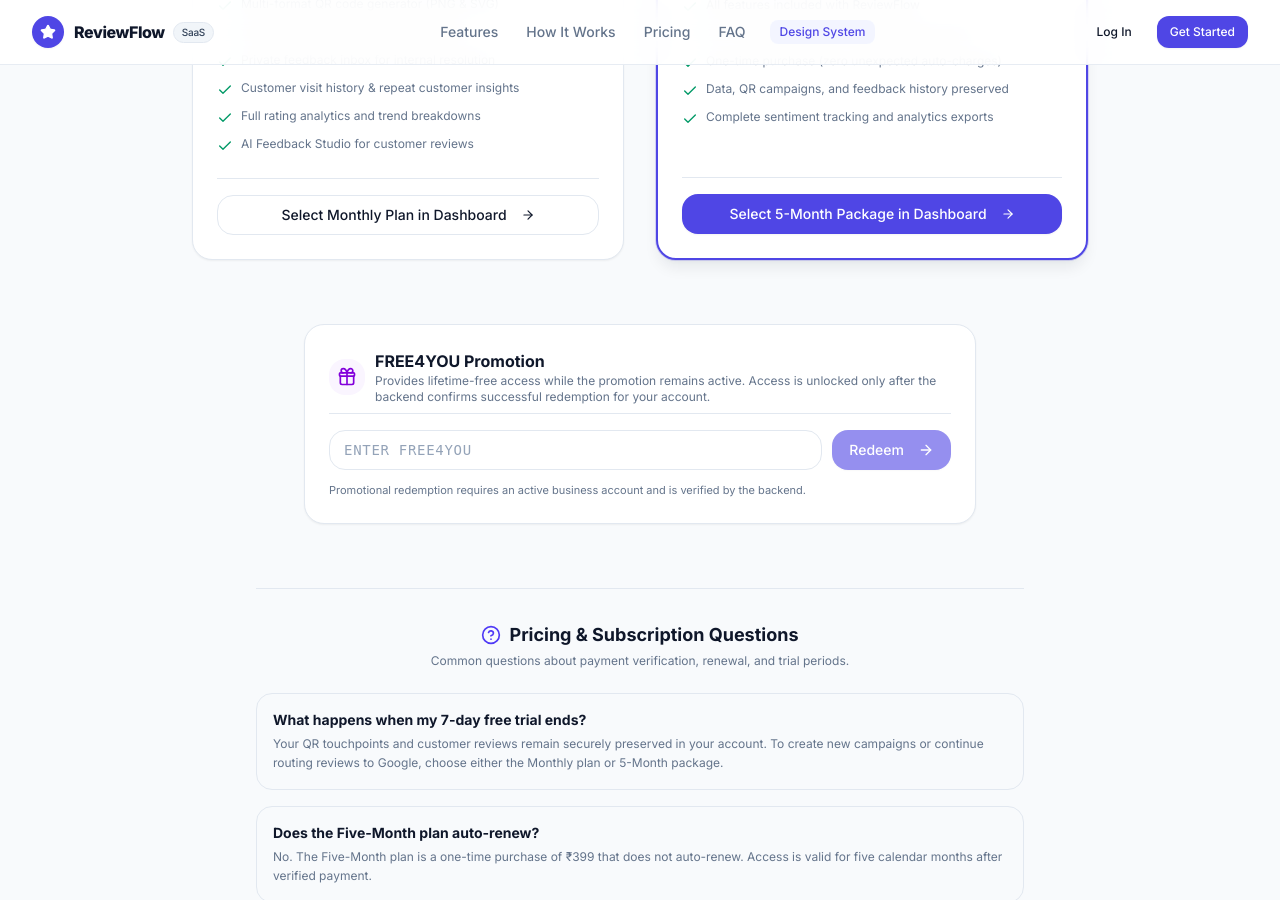
Test case: Pricing Page Route Component › handles FREE4YOU code redemption on pricing page
(page scrolled)
Type "FREE4YOU" into the field with placeholder "Enter FREE4YOU".
click(576, 450); type("FREE4YOU")  # box [329,430,822,470]
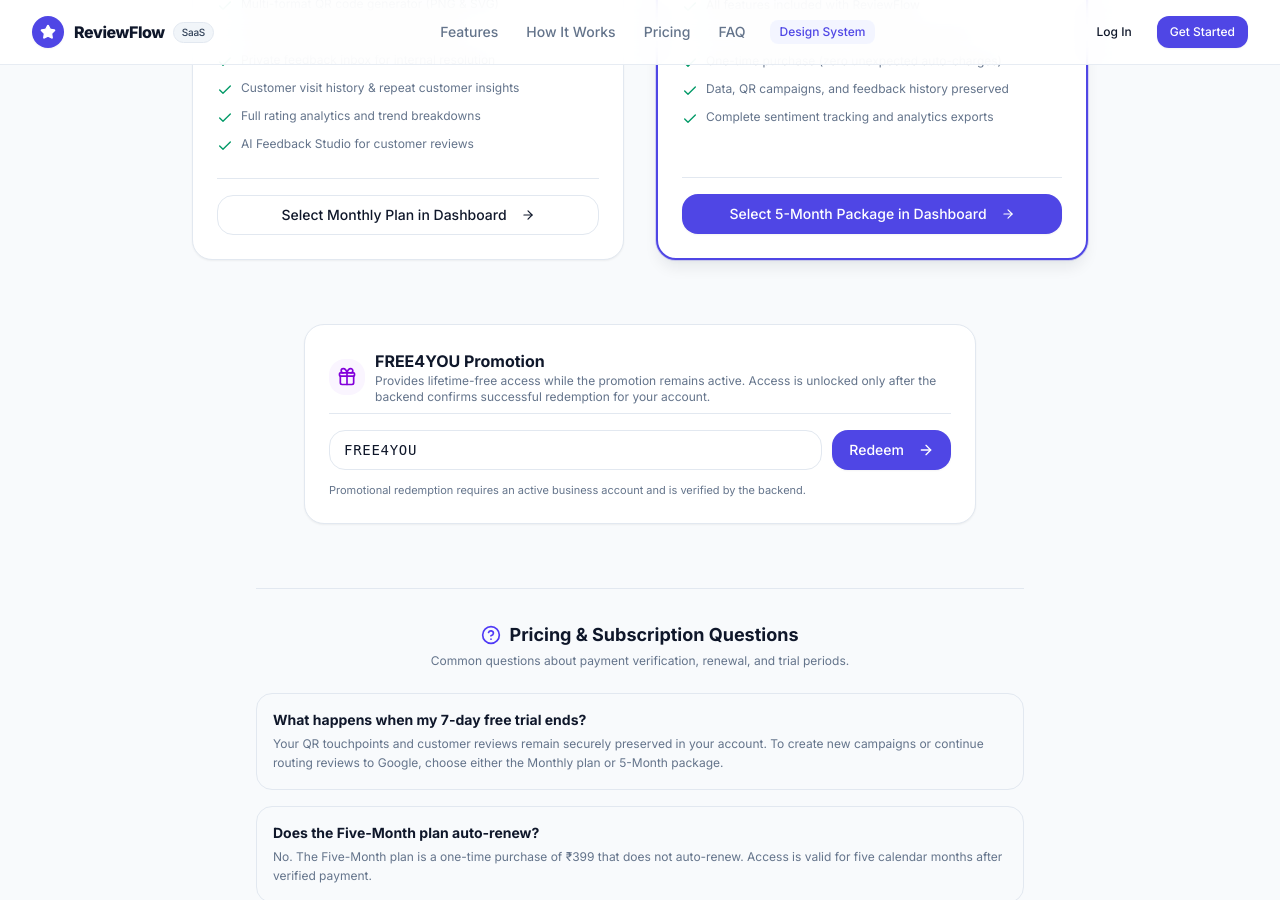
Click the button "Redeem".
click(892, 450)  # box [832,430,951,470]
(page scrolled)
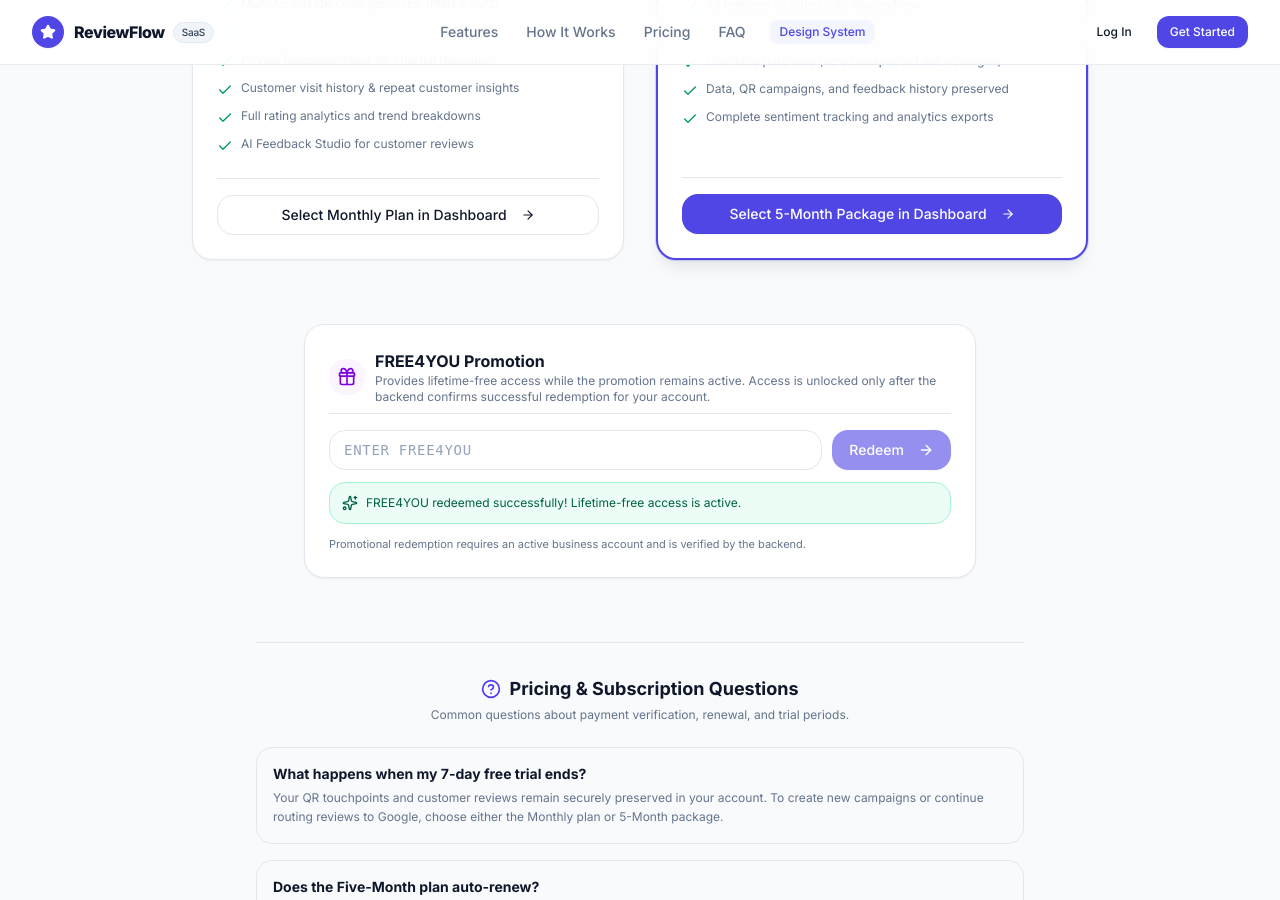
Result: the text "FREE4YOU redeemed successfully! Lifetime-free access is active." is shown at [366,495,741,511]
